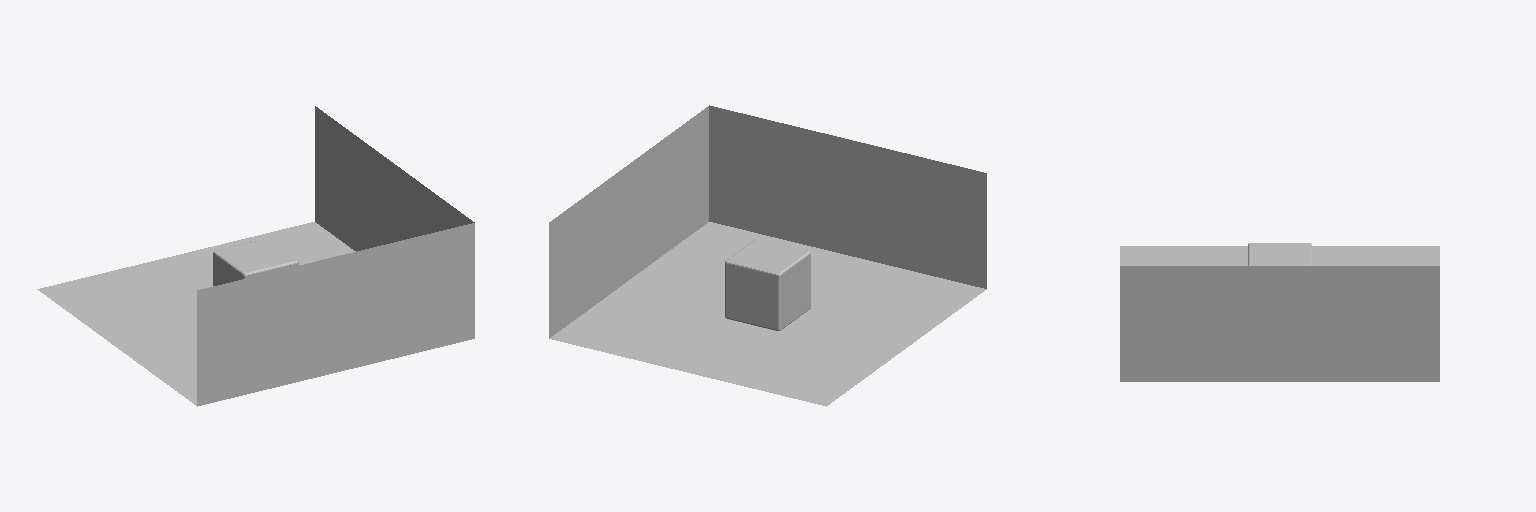
The model's file is BrickCube.obj.
The picture shows the model from 3 angles: view 1: azimuth 30°, elevation 25°; view 2: azimuth 150°, elevation 25°; view 3: azimuth 270°, elevation 25°; orthographic projection.
Visible parts, largest first — view 1: Wall_01, Ground, Wal_02, BrickCube; view 2: Ground, Wall_01, Wal_02, BrickCube; view 3: Wal_02, Ground, BrickCube.
Part boxes in pixels (bbox=[...]): Wall_01: bbox=[197, 223, 474, 406]; Ground: bbox=[37, 222, 355, 405]; Wal_02: bbox=[315, 106, 474, 251]; BrickCube: bbox=[213, 239, 298, 285]; Ground: bbox=[550, 222, 986, 406]; Wall_01: bbox=[709, 105, 986, 288]; Wal_02: bbox=[549, 106, 708, 338]; BrickCube: bbox=[725, 239, 810, 330]; Wal_02: bbox=[1120, 266, 1439, 381]; Ground: bbox=[1120, 246, 1439, 265]; BrickCube: bbox=[1248, 243, 1311, 265].
Size of the model in its own units: 10 by 4 by 10.